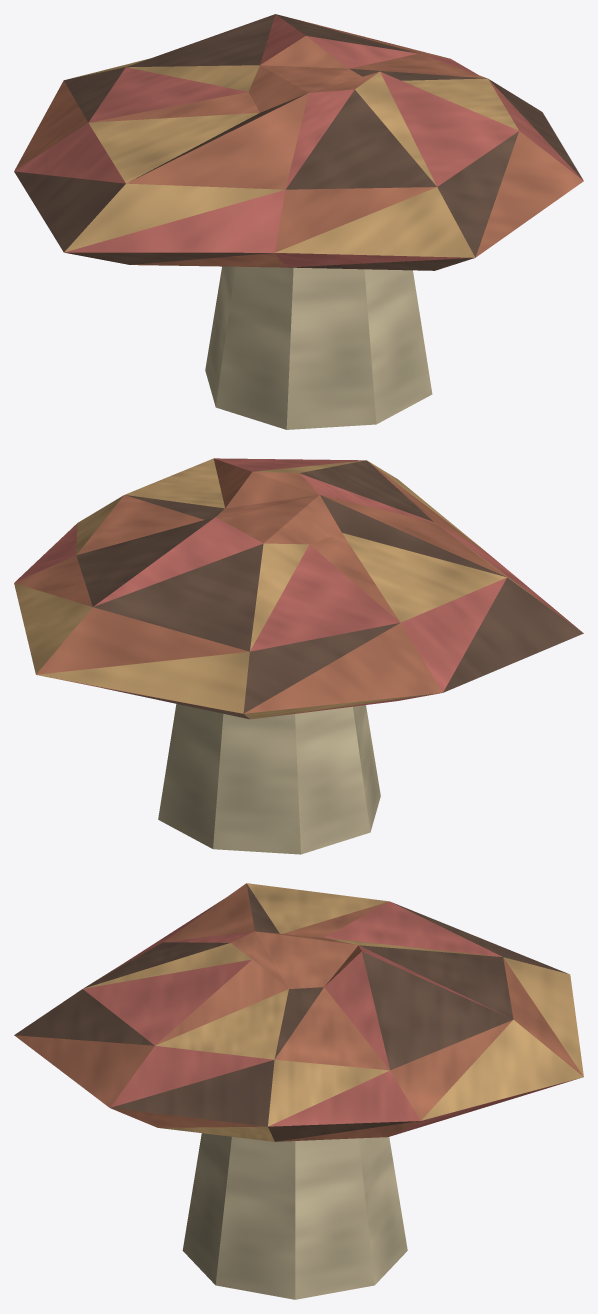
File: mushroom_small_set_02.fbx
3 renders of one model, top to bottom at view 1: azimuth 30°, elevation 25°; view 2: azimuth 150°, elevation 25°; view 3: azimuth 270°, elevation 25°, orthographic. The views are drawn at different scales.
Visible parts, largest first — view 1: mushroom_small_set_02; view 2: mushroom_small_set_02; view 3: mushroom_small_set_02.
Boxes of the visible parts, x1,y1,x2,y2 form: mushroom_small_set_02: (14, 14, 583, 429); mushroom_small_set_02: (14, 458, 583, 854); mushroom_small_set_02: (14, 883, 583, 1299).
Size of the model in its own units: 22.66 by 13.8 by 23.
Materials: 1 (1 with a texture image).
